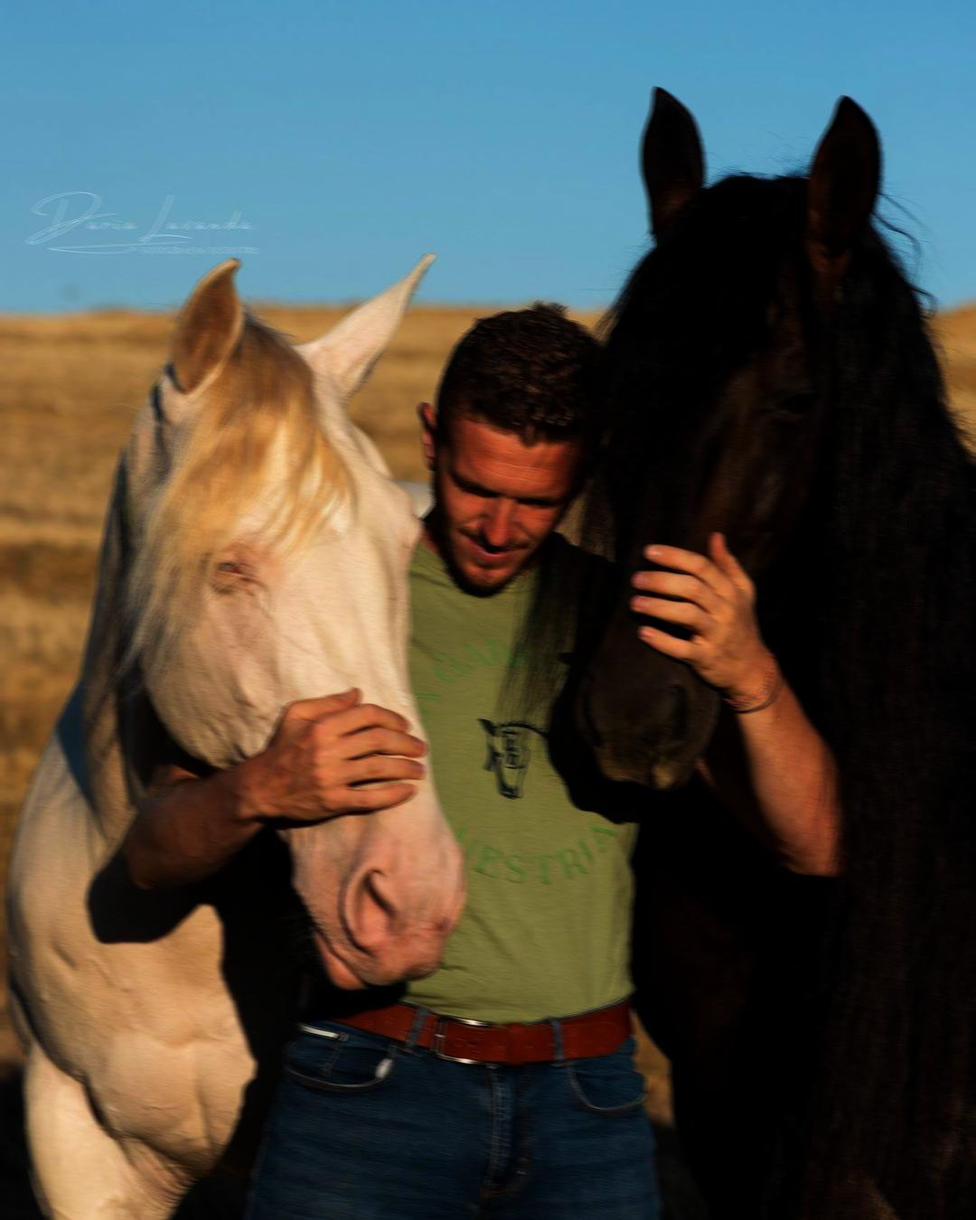horse: (561, 84, 975, 1217)
